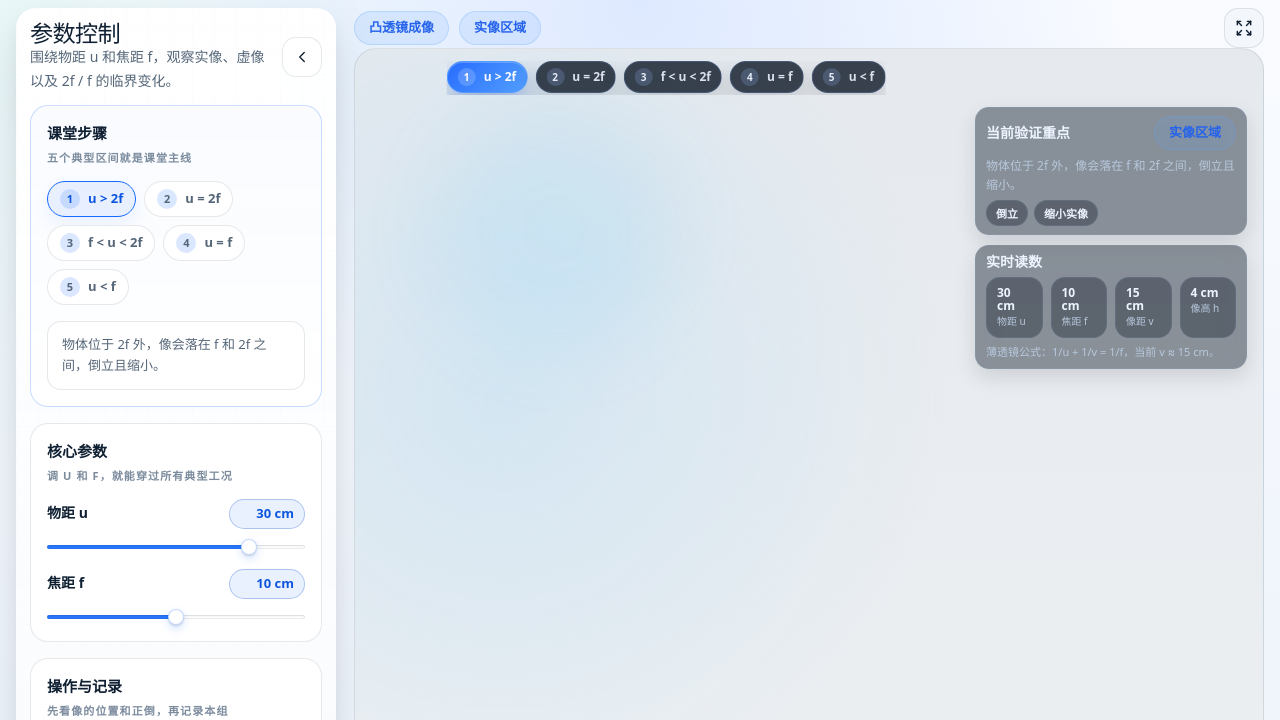
Scenario: LensImagingLab › switches to the virtual-image case inside the focal length
The width and height of the screenshot is (1280, 720).
Click the button "5 u < f" below "五个典型区间就是课堂主线".
click(88, 287)  # box [47,269,129,305]
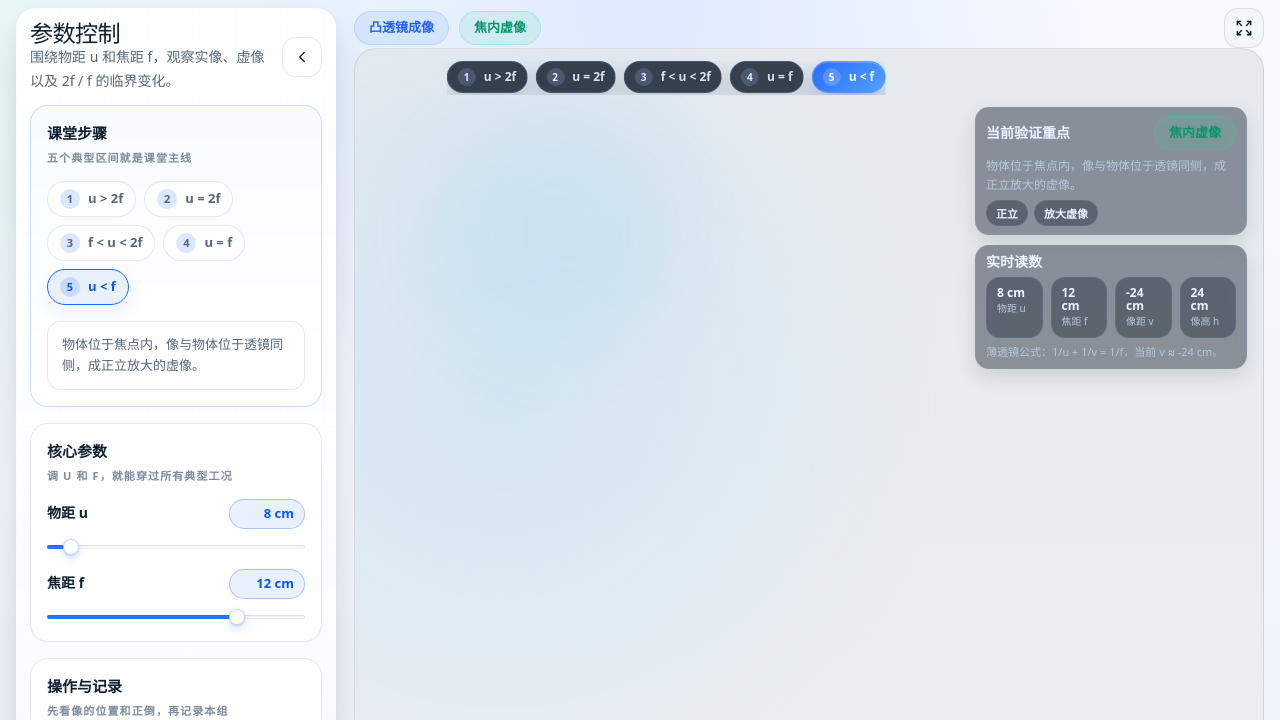
expect the text "放大虚像" is shown: met, box [1034,200,1098,226]
